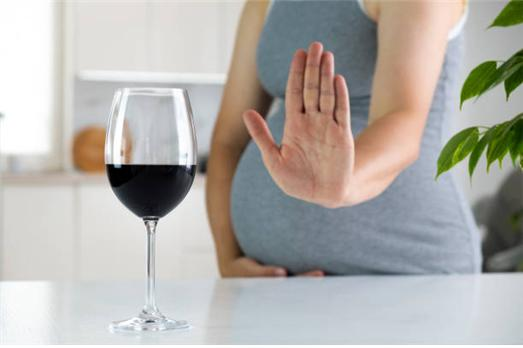alcohol: (105, 85, 198, 332)
